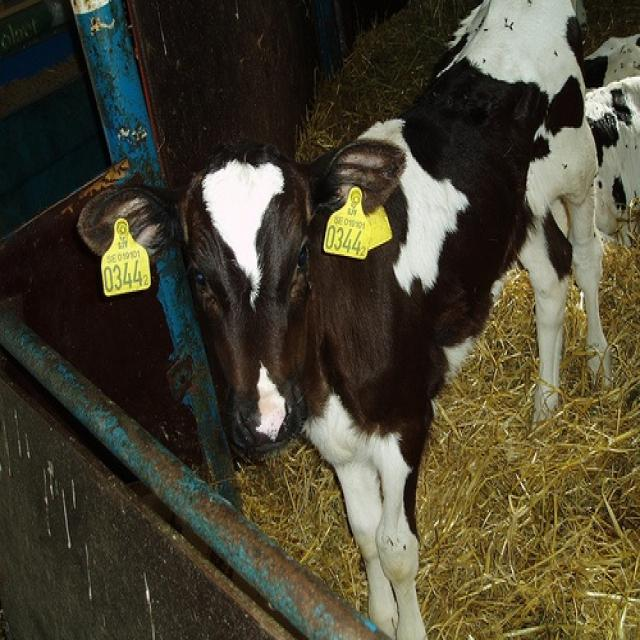cow: (73, 0, 612, 638)
